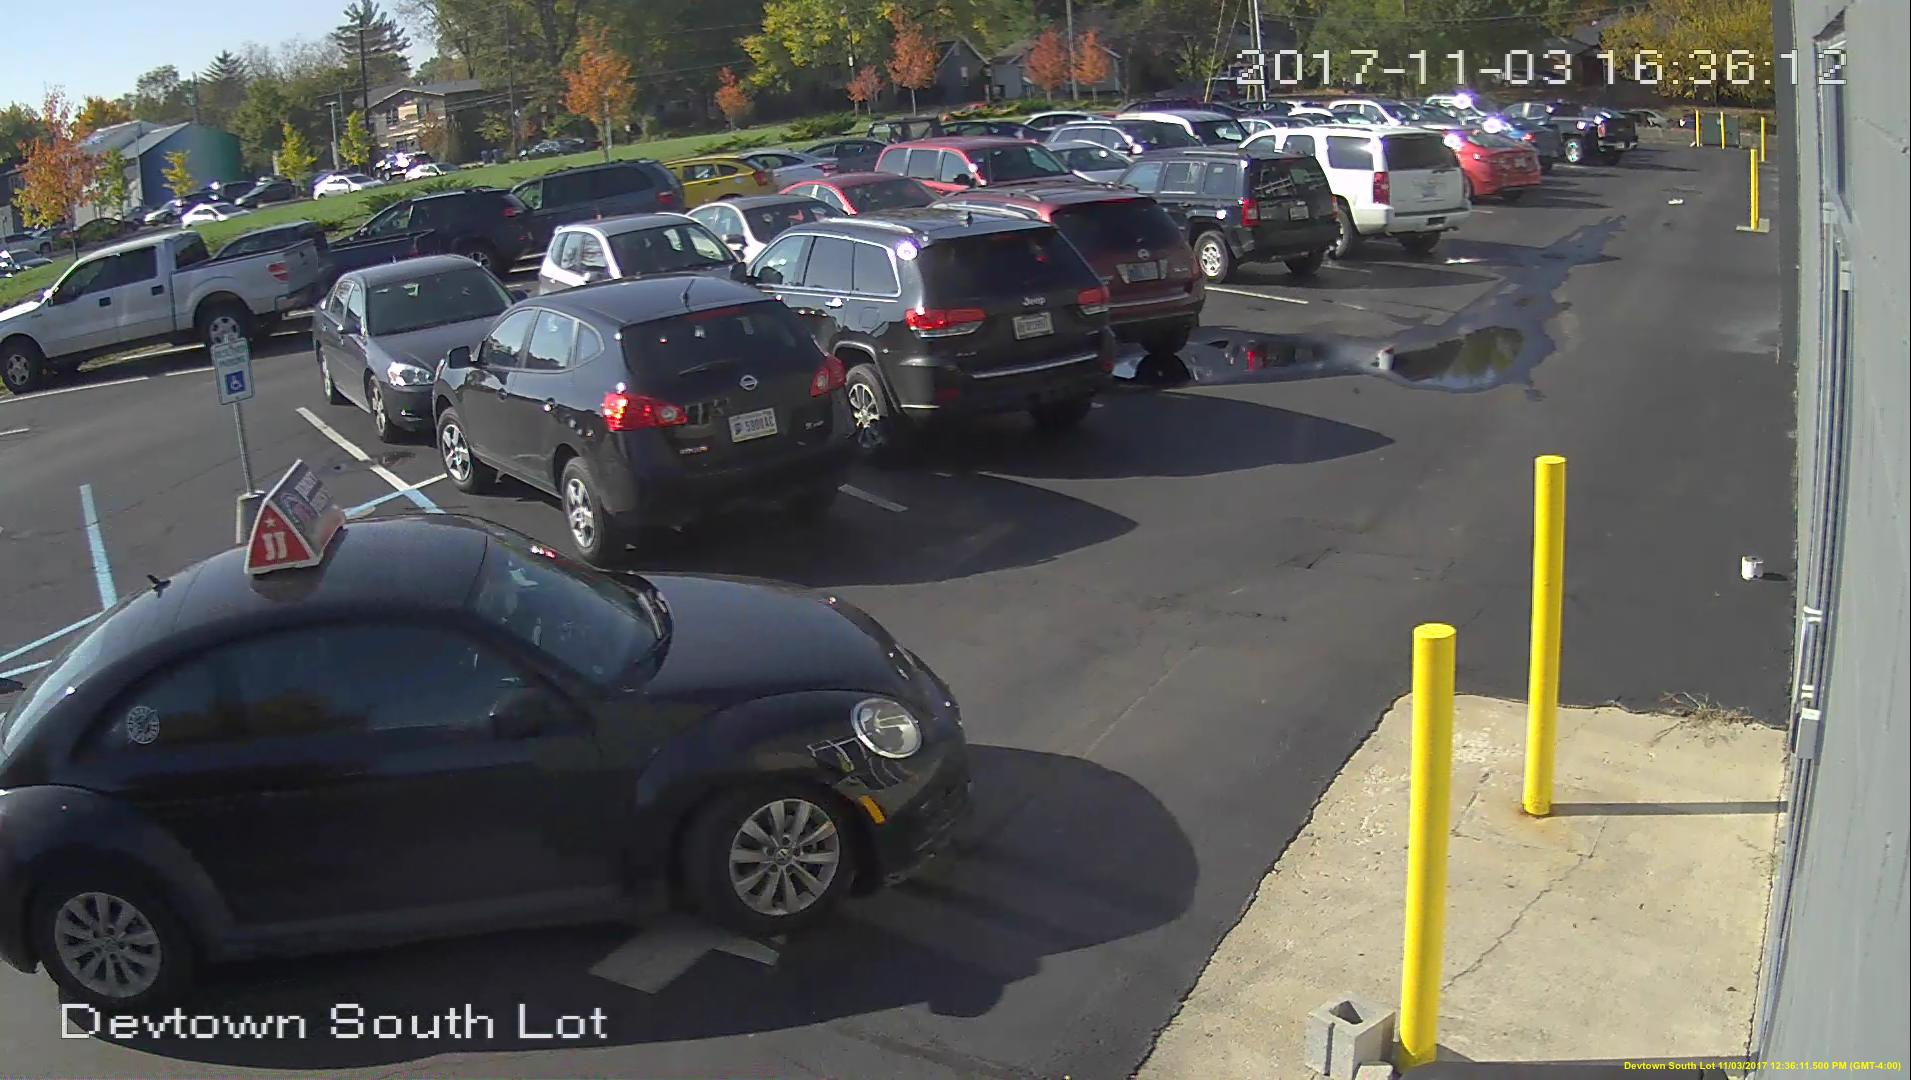jimmy_johns: (249, 459, 339, 577)
